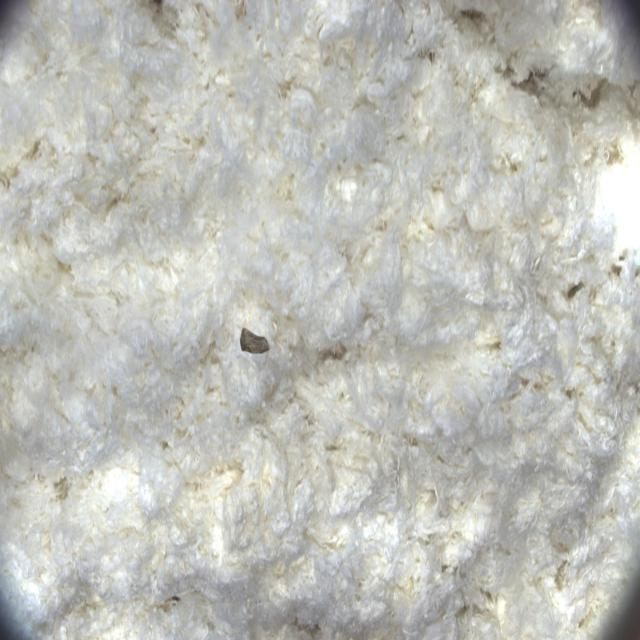dust: (220, 292, 287, 383)
